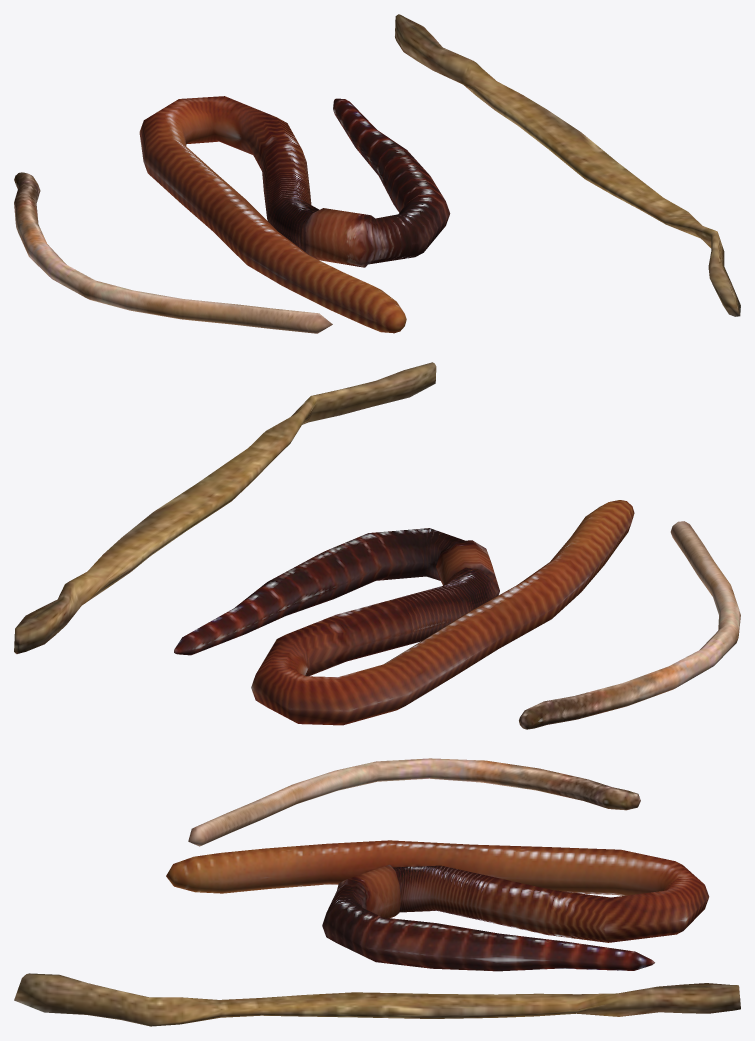
File: dilong.FBX
3 renders of one model, top to bottom at view 1: azimuth 30°, elevation 25°; view 2: azimuth 150°, elevation 25°; view 3: azimuth 270°, elevation 25°, orthographic. The views are drawn at different scales.
Parts seen in each view (by area): view 1: Cylinder001, Box002, Cylinder002; view 2: Cylinder001, Box002, Cylinder002; view 3: Cylinder001, Box002, Cylinder002.
Part boxes in pixels (bbox=[...]): Cylinder001: bbox=[139, 96, 450, 333]; Box002: bbox=[395, 14, 740, 316]; Cylinder002: bbox=[14, 172, 332, 333]; Cylinder001: bbox=[174, 500, 634, 725]; Box002: bbox=[14, 362, 436, 653]; Cylinder002: bbox=[519, 521, 740, 729]; Cylinder001: bbox=[166, 840, 709, 971]; Box002: bbox=[14, 973, 740, 1026]; Cylinder002: bbox=[188, 758, 640, 846].
Size of the model in its own units: 0.357 by 0.0331 by 0.4249.
Materials: 1 (1 with a texture image).
